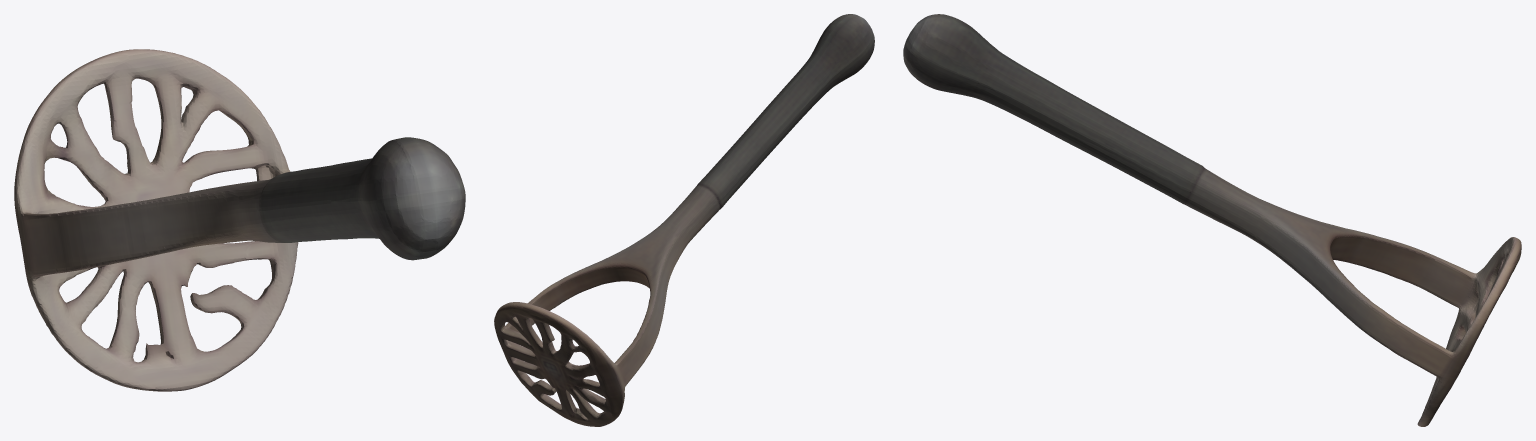
File: frame_0071_source_000071_object.glb
3 renders of one model, left to right at view 1: azimuth 30°, elevation 25°; view 2: azimuth 150°, elevation 25°; view 3: azimuth 270°, elevation 25°, orthographic. The views are drawn at different scales.
Parts seen in each view (by area): view 1: world; view 2: world; view 3: world.
Part boxes in pixels (left/top/right/bottom): world: left=14, top=49, right=465, bottom=391; world: left=494, top=14, right=874, bottom=426; world: left=903, top=14, right=1521, bottom=426.
Size of the model in its own units: 0.0929 by 0.1545 by 0.2432.
